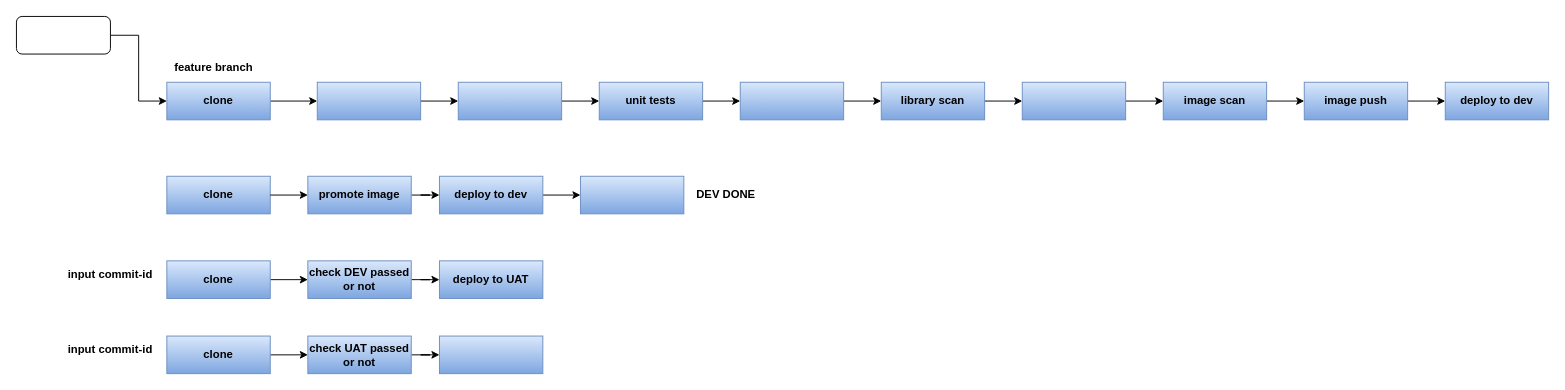
This 1565x390 diagram has some shape labels left out. Each missing label, with the centre of its shape:
"api tests" goes at pixel 632 194.
"catalogue" goes at pixel 63 35.
"deploy to PROD" goes at pixel 491 354.
"image build" goes at pixel 1073 100.
"install dependencies" goes at pixel 509 100.
"read version" goes at pixel 368 100.
"sonar scan" goes at pixel 791 100.
